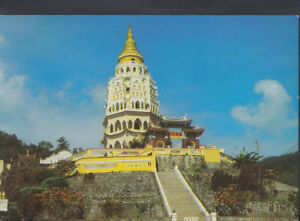Buddhist Temple: (97, 27, 167, 148)
